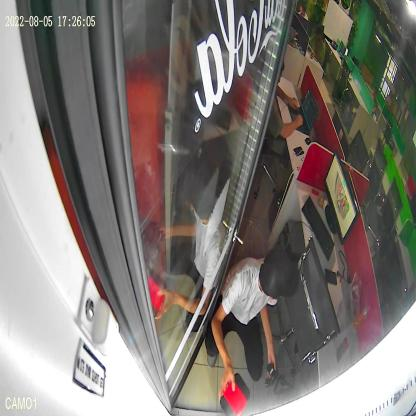red: (219, 372, 250, 416)
